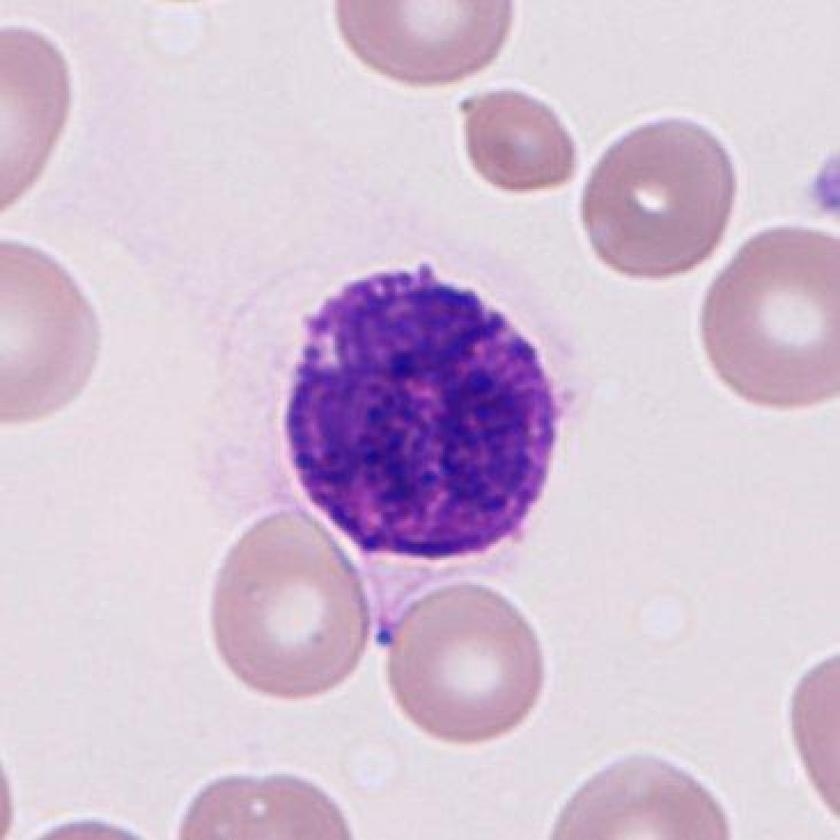basophil: (286, 268, 566, 566)
